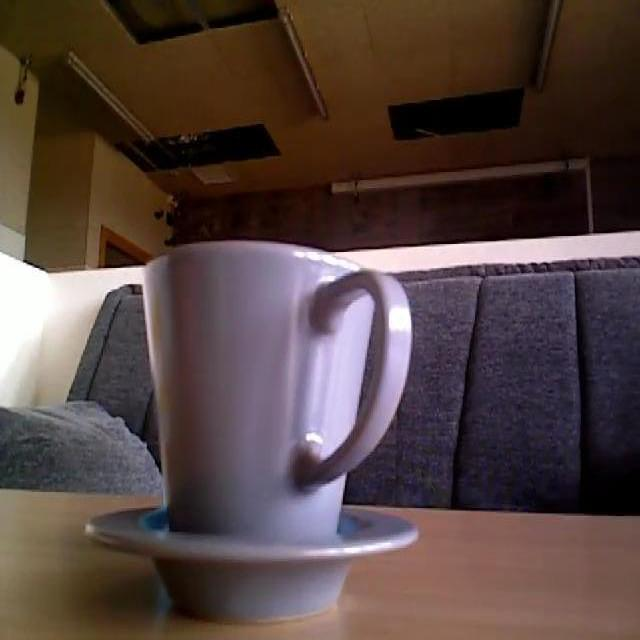cup: (91, 241, 433, 623)
